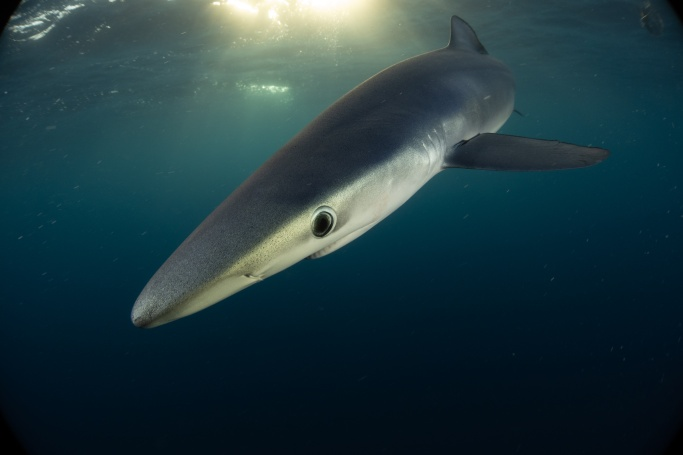Azul: (75, 5, 596, 346)
